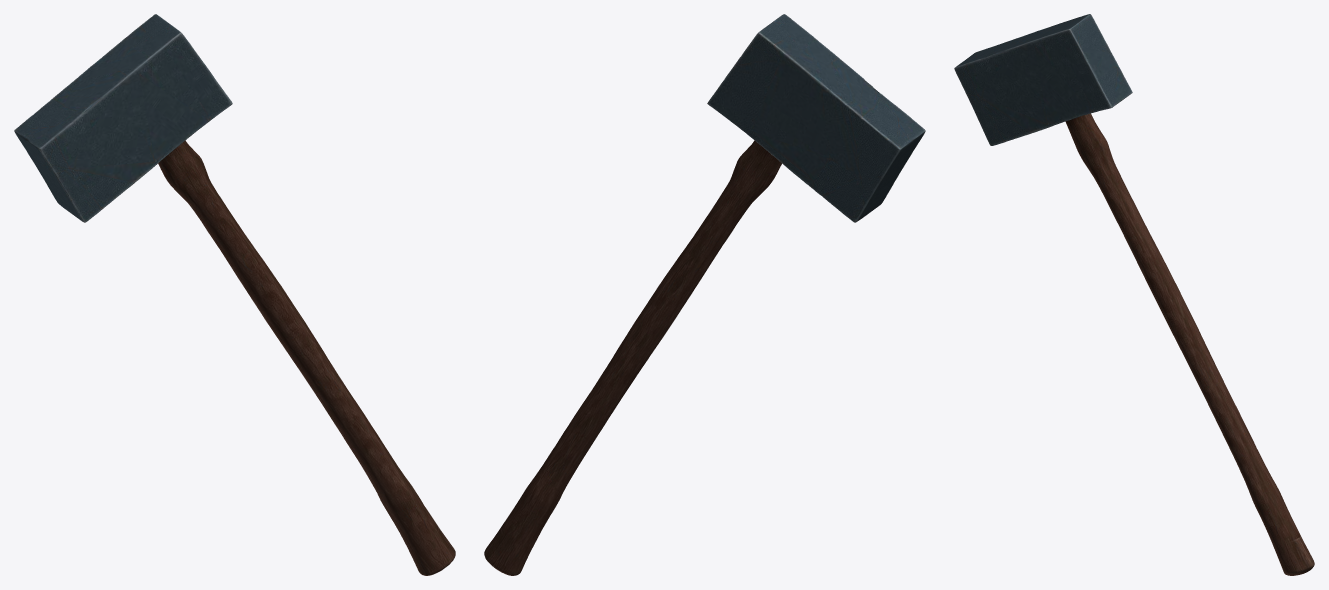
The model's file is hammer-1.glb.
3 renders of one model, left to right at view 1: azimuth 30°, elevation 25°; view 2: azimuth 150°, elevation 25°; view 3: azimuth 330°, elevation 25°, orthographic. The views are drawn at different scales.
Visible parts, largest first — view 1: Mesh_0; view 2: Mesh_0; view 3: Mesh_0.
Part boxes in pixels (x1,y1,x2,y2): Mesh_0: [14, 14, 455, 575]; Mesh_0: [484, 14, 925, 575]; Mesh_0: [954, 14, 1314, 575].
Bounding box in the file's own units: 1.38 × 1.9 × 0.1466.
Materials: 1 (1 with a texture image).
